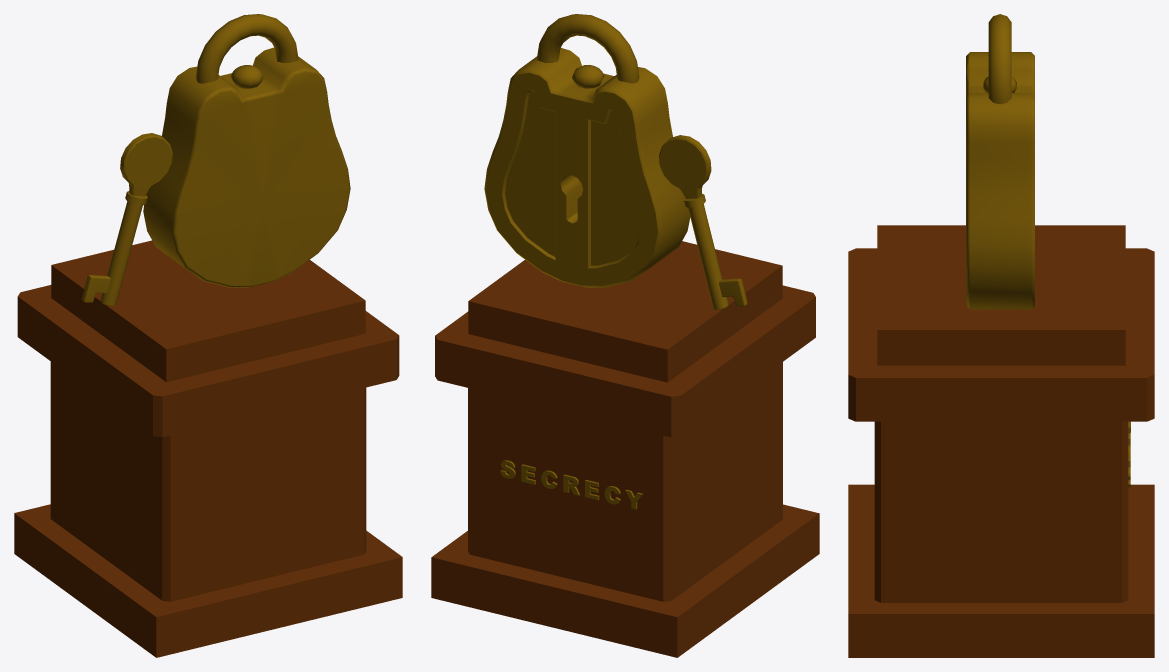
The model's file is mesh_Weight_Secrecy.fbx.
3 views of the same model, side by side, from view 1: azimuth 30°, elevation 25°; view 2: azimuth 150°, elevation 25°; view 3: azimuth 270°, elevation 25° (orthographic). The views are drawn at different scales.
Visible parts, largest first — view 1: model_Weight_Secrecy; view 2: model_Weight_Secrecy; view 3: model_Weight_Secrecy.
Boxes of the visible parts, x1,y1,x2,y2 form: model_Weight_Secrecy: (14, 14, 402, 657); model_Weight_Secrecy: (431, 14, 819, 657); model_Weight_Secrecy: (848, 14, 1154, 657).
Size of the model in its own units: 3.84 by 8.07 by 3.77.
